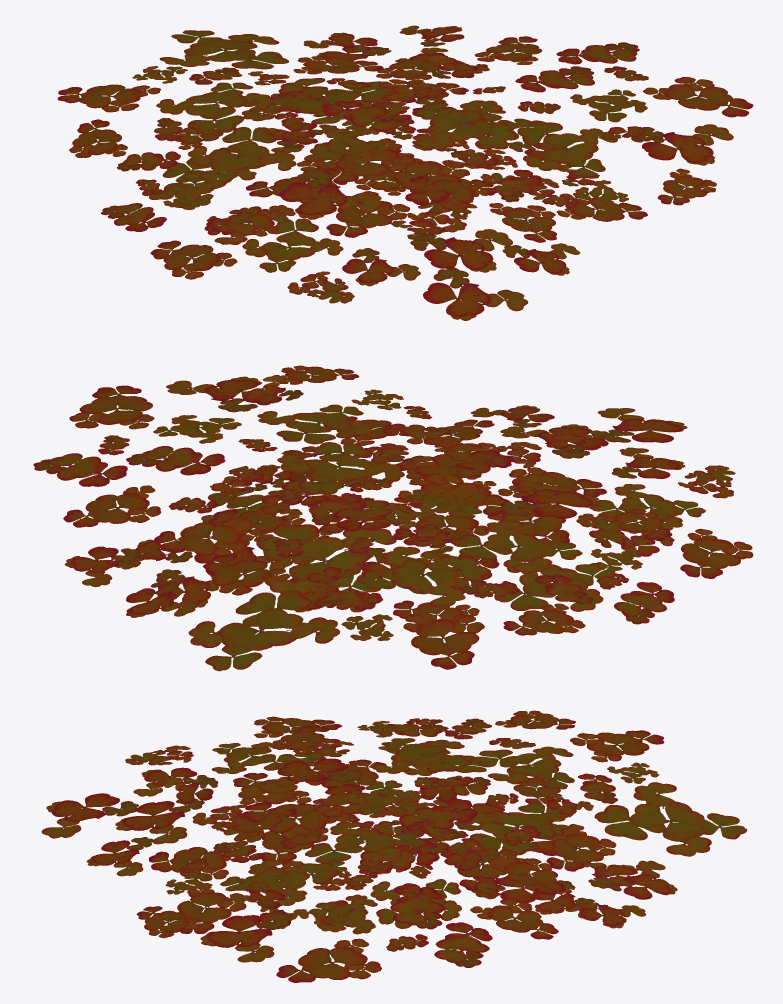
The picture shows the model from 3 angles, top to bottom: view 1: azimuth 30°, elevation 25°; view 2: azimuth 150°, elevation 25°; view 3: azimuth 270°, elevation 25°; orthographic projection. The views are drawn at different scales.
Parts seen in each view (by area): view 1: SM_UmbS_Sorrel_04_LOD0; view 2: SM_UmbS_Sorrel_04_LOD0; view 3: SM_UmbS_Sorrel_04_LOD0.
Part boxes in pixels (left/top/right/bottom): SM_UmbS_Sorrel_04_LOD0: left=57, top=25, right=753, bottom=320; SM_UmbS_Sorrel_04_LOD0: left=33, top=365, right=753, bottom=671; SM_UmbS_Sorrel_04_LOD0: left=41, top=710, right=747, bottom=982.
Size of the model in its own units: 1.2 by 0.1087 by 1.29.
Materials: 1 (1 with a texture image).
